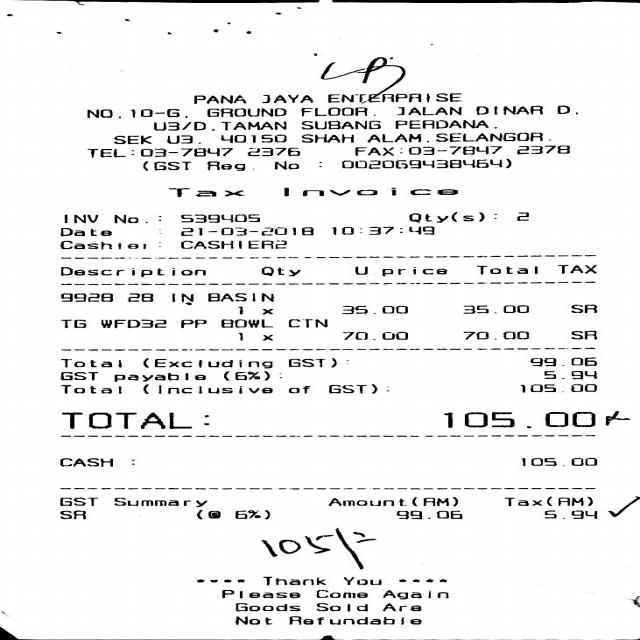text: (441, 410, 627, 428), (59, 411, 208, 428), (436, 130, 549, 146), (281, 187, 454, 197), (340, 158, 510, 168), (58, 266, 202, 276), (354, 146, 500, 155), (327, 92, 458, 102), (140, 357, 269, 367), (328, 496, 454, 506), (288, 615, 420, 624), (179, 226, 310, 235), (140, 384, 270, 393), (329, 225, 431, 234), (406, 211, 494, 221), (178, 240, 286, 248), (111, 497, 206, 506), (139, 147, 230, 156), (392, 120, 494, 128), (502, 496, 589, 505), (111, 372, 204, 380), (300, 119, 379, 128), (59, 240, 147, 248), (206, 107, 284, 116), (178, 213, 256, 222), (220, 589, 298, 598), (528, 356, 594, 366), (165, 188, 241, 196), (299, 107, 374, 115), (475, 105, 541, 114), (380, 266, 446, 275), (520, 383, 594, 391), (462, 304, 527, 313), (98, 318, 163, 327), (521, 456, 594, 464), (382, 589, 446, 598), (234, 602, 298, 611), (207, 292, 270, 301), (152, 121, 213, 130), (222, 371, 280, 380), (220, 134, 285, 142), (339, 305, 404, 313), (462, 331, 527, 339), (395, 510, 460, 518), (396, 106, 460, 114), (340, 331, 404, 339), (260, 576, 323, 584), (328, 384, 378, 394), (475, 265, 536, 273), (59, 358, 120, 366), (59, 384, 120, 392), (130, 108, 184, 117), (226, 121, 284, 129), (367, 133, 425, 141), (288, 357, 334, 367), (191, 94, 242, 103), (59, 457, 110, 466), (315, 589, 366, 598), (315, 602, 366, 611), (220, 318, 270, 327), (246, 147, 299, 155), (514, 145, 566, 153), (542, 370, 594, 378), (542, 510, 594, 518), (259, 94, 310, 102), (59, 293, 110, 301), (142, 160, 187, 169), (300, 133, 350, 141), (58, 227, 108, 235), (259, 265, 298, 275), (86, 148, 132, 156), (555, 264, 595, 273), (286, 318, 326, 327), (380, 602, 419, 611), (205, 160, 243, 169), (58, 371, 96, 380), (232, 509, 269, 518), (111, 214, 146, 223), (232, 616, 271, 624), (166, 134, 200, 143), (62, 213, 96, 222), (110, 135, 148, 143), (58, 497, 96, 505), (341, 576, 378, 584), (86, 109, 119, 117), (59, 318, 85, 327), (179, 318, 205, 327), (171, 292, 194, 302), (271, 160, 296, 169), (570, 330, 595, 339), (58, 510, 84, 518), (194, 509, 217, 518), (125, 293, 150, 301), (570, 304, 595, 312), (554, 104, 576, 113), (286, 385, 308, 393), (514, 211, 525, 220), (353, 266, 365, 274), (235, 306, 244, 314), (261, 308, 273, 314), (234, 332, 243, 340), (262, 334, 273, 340)
